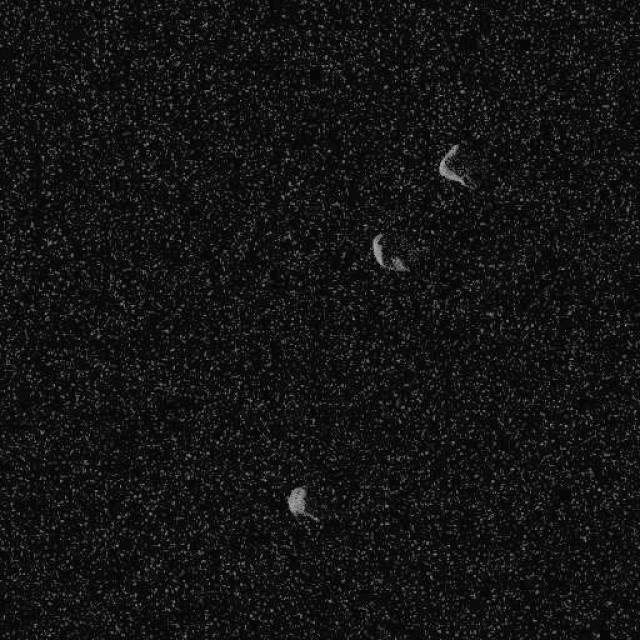D2: (436, 141, 476, 191), (370, 231, 410, 274), (285, 484, 320, 524)
